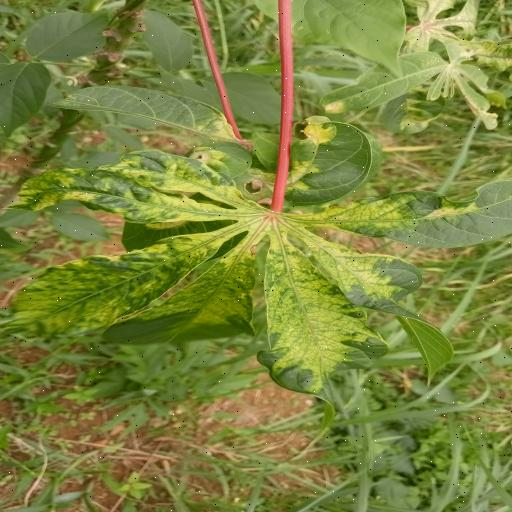Cassava_Mosaic: (7, 152, 512, 397)
